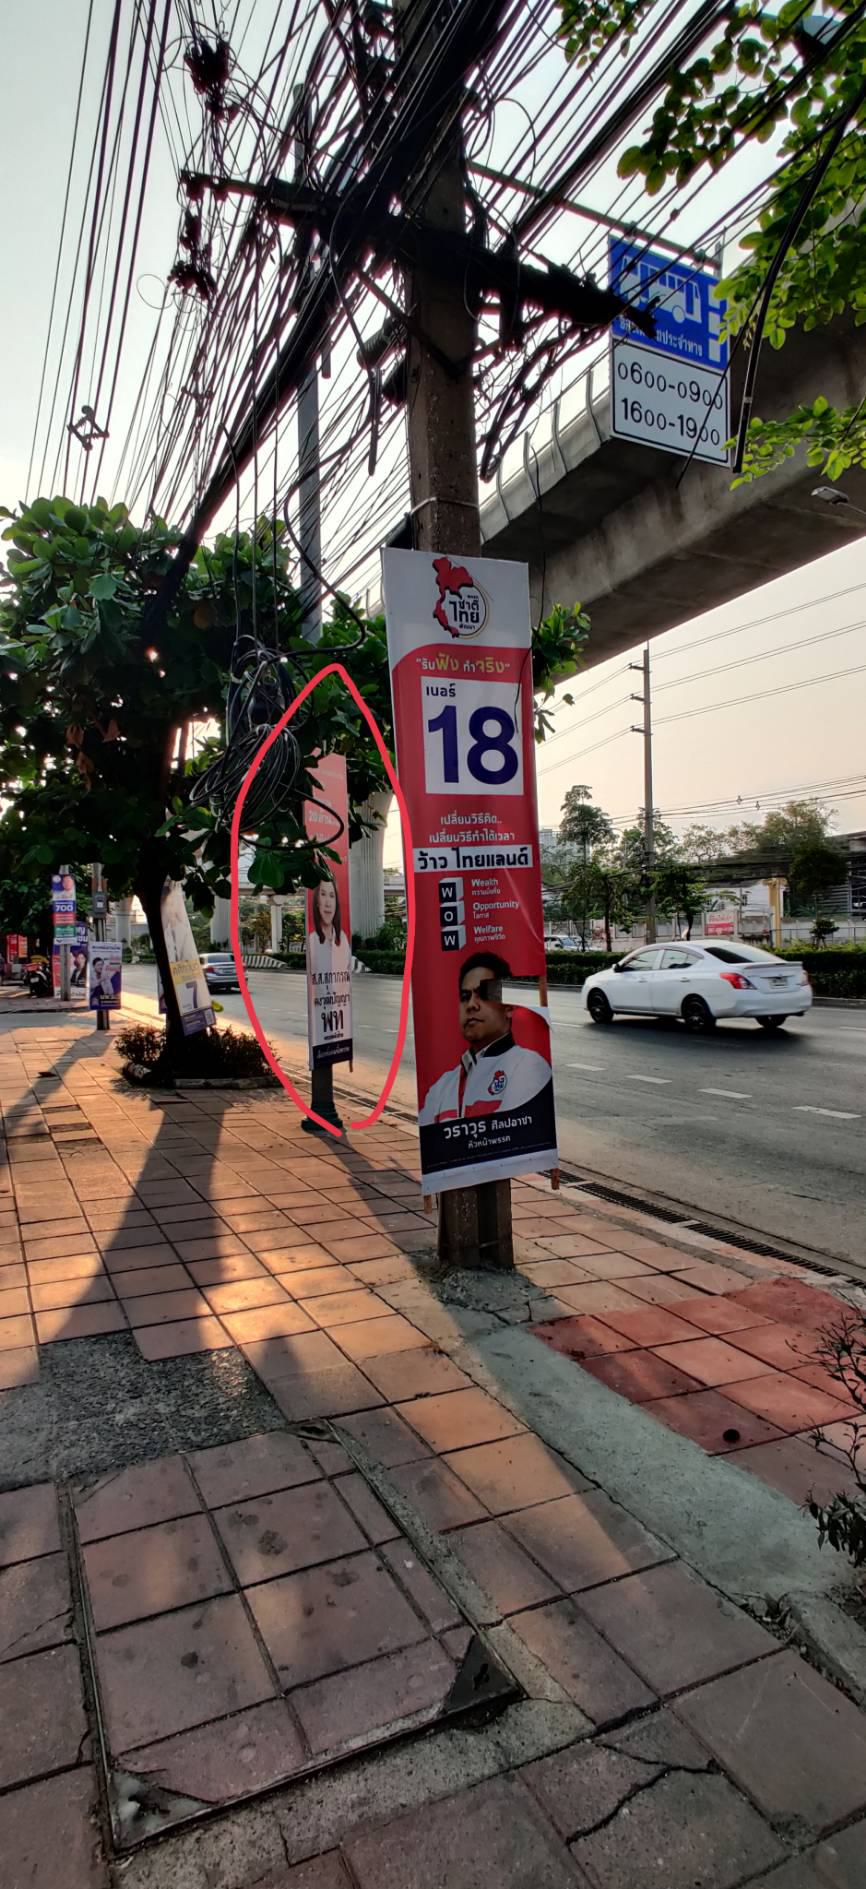Banner: (385, 559, 544, 1210)
